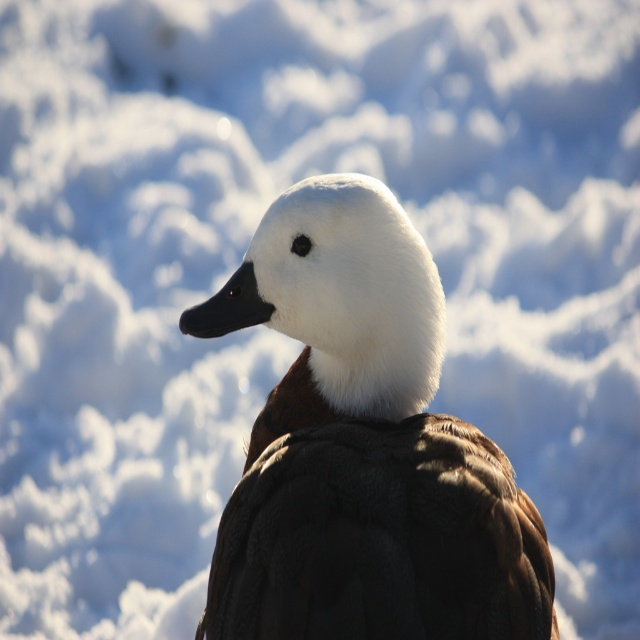Goose: (169, 181, 560, 640)
